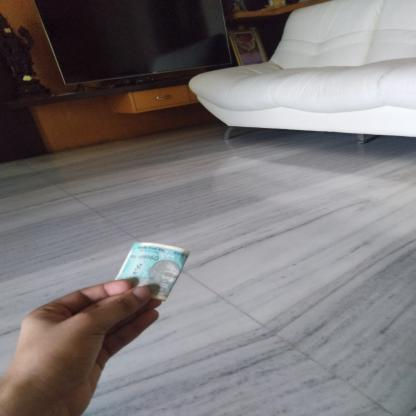New50Front: (117, 244, 187, 298)
